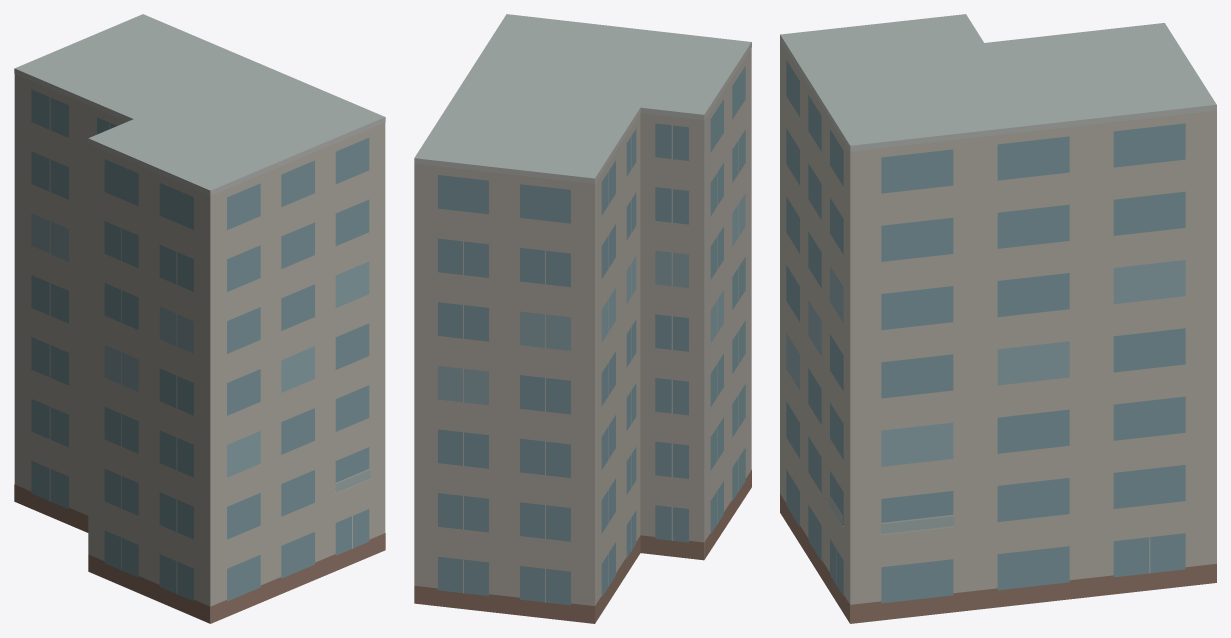
Rendered from survey-upis-32574277.glb.
3 renders of one model, left to right at view 1: azimuth 30°, elevation 25°; view 2: azimuth 150°, elevation 25°; view 3: azimuth 270°, elevation 25°, orthographic. The views are drawn at different scales.
Parts seen in each view (by area): view 1: survey-upis-32574277.tmp; view 2: survey-upis-32574277.tmp; view 3: survey-upis-32574277.tmp.
Boxes of the visible parts, left/top/right/bottom form: survey-upis-32574277.tmp: left=14, top=14, right=385, bottom=623; survey-upis-32574277.tmp: left=414, top=14, right=751, bottom=623; survey-upis-32574277.tmp: left=780, top=14, right=1216, bottom=623.
Size of the model in its own units: 11.74 by 19.85 by 16.44.
